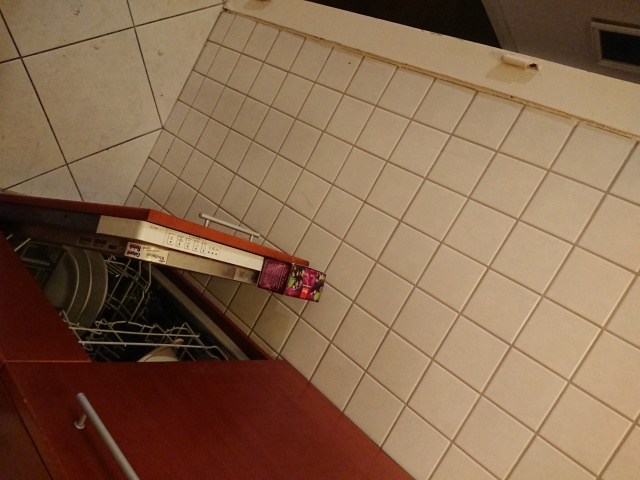Franck Black Currant Tea 60g: (254, 256, 328, 303)
